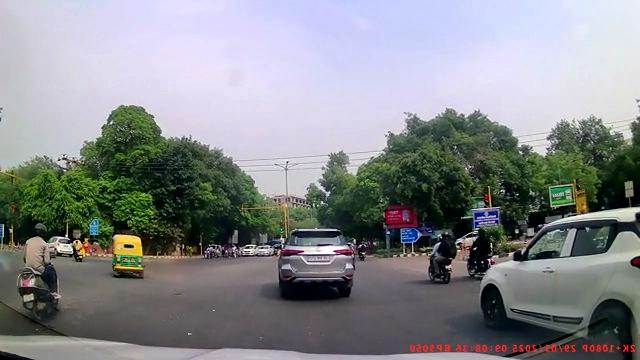motorcycle_with_helmet: (17, 222, 62, 320), (426, 231, 456, 284)
motorcycle_without_helmet: (466, 225, 493, 279)
